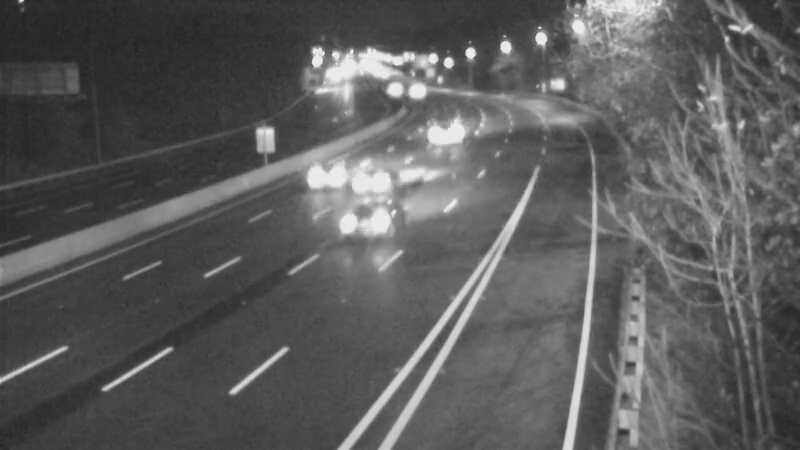vehicle: (281, 137, 361, 217), (333, 139, 413, 219), (320, 179, 400, 259), (391, 64, 441, 114), (360, 63, 410, 113), (409, 112, 459, 162)
